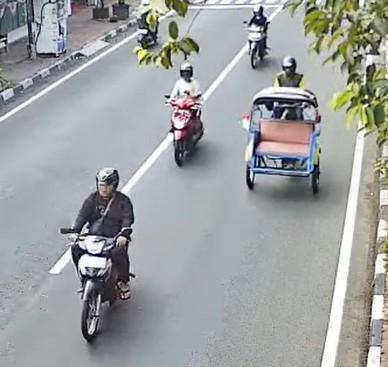Helmet: (96, 167, 118, 190), (282, 56, 296, 73), (180, 62, 192, 80), (253, 5, 263, 14), (141, 0, 149, 5)
Number Plate: (79, 255, 106, 268)
